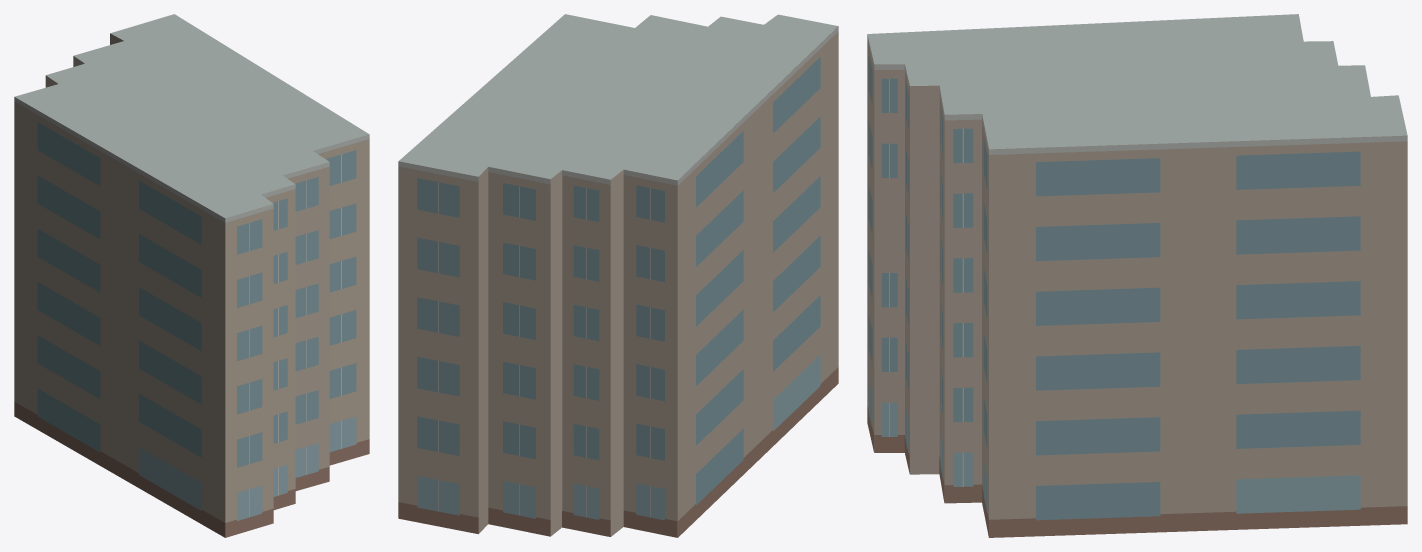
File: survey-upis-32582925.glb
3 views of the same model, side by side, from view 1: azimuth 30°, elevation 25°; view 2: azimuth 150°, elevation 25°; view 3: azimuth 270°, elevation 25° (orthographic). The views are drawn at different scales.
Visible parts, largest first — view 1: survey-upis-32582925.tmp; view 2: survey-upis-32582925.tmp; view 3: survey-upis-32582925.tmp.
Part boxes in pixels (<box>): survey-upis-32582925.tmp: <box>14,14,369,537</box>; survey-upis-32582925.tmp: <box>398,14,838,537</box>; survey-upis-32582925.tmp: <box>867,14,1407,537</box>.
Bounding box in the file's own units: 12.56 × 16.8 × 21.18.
